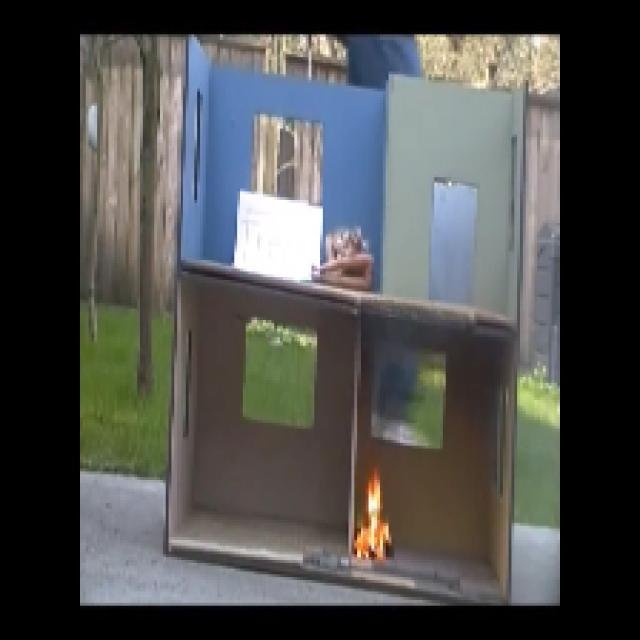Fire: (354, 482, 396, 568)
